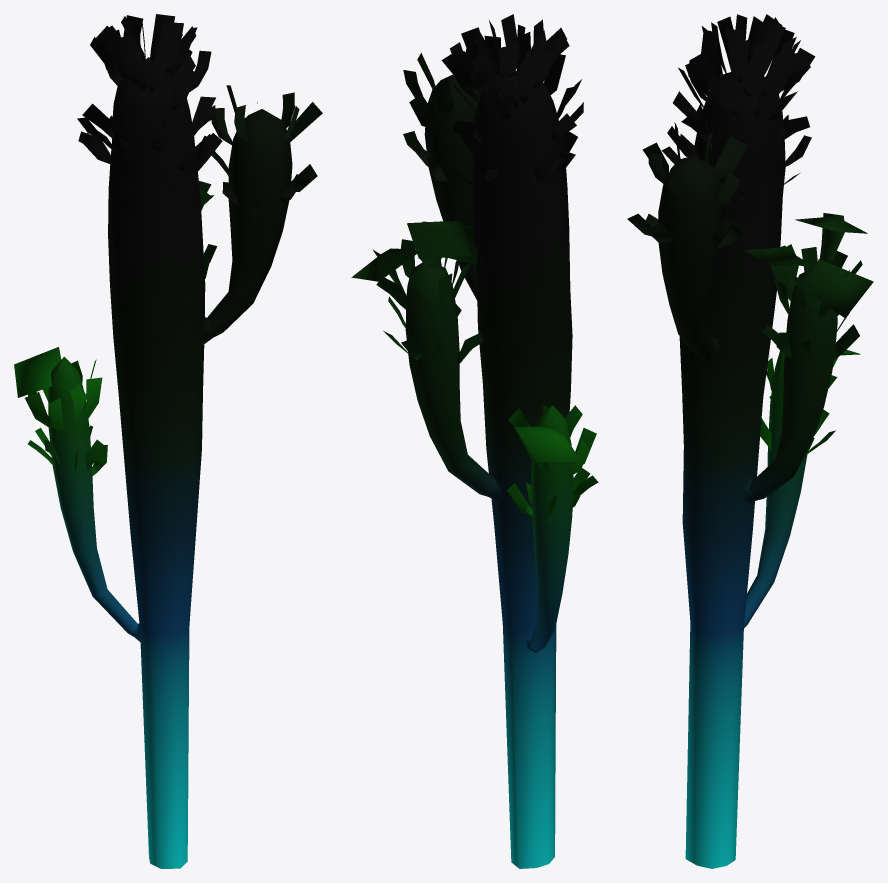
Rendered from Saguaro3.fbx.
3 views of the same model, side by side, from view 1: azimuth 30°, elevation 25°; view 2: azimuth 150°, elevation 25°; view 3: azimuth 270°, elevation 25° (orthographic). The views are drawn at different scales.
Visible parts, largest first — view 1: Saguaro3_LOD0; view 2: Saguaro3_LOD0; view 3: Saguaro3_LOD0.
Boxes of the visible parts, x1,y1,x2,y2 form: Saguaro3_LOD0: (14,14,322,868); Saguaro3_LOD0: (351,14,598,868); Saguaro3_LOD0: (627,14,873,868).
Size of what is drawn, in the model's own units: 169 by 571 by 153.
